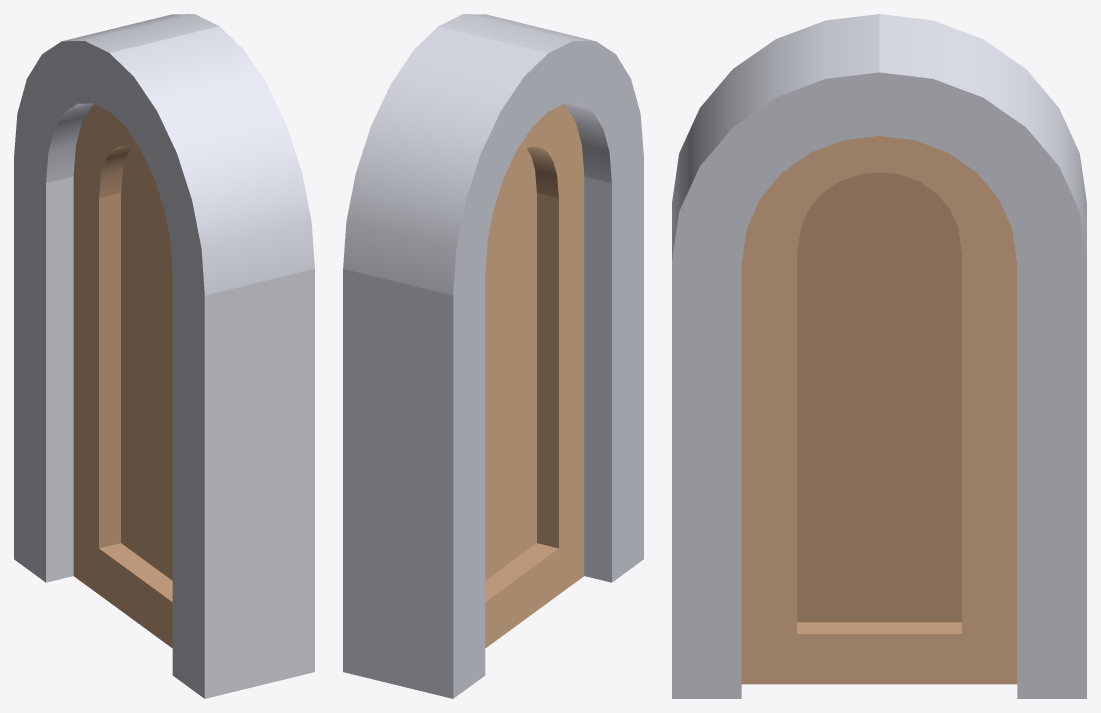
Rendered from door.glb.
3 renders of one model, left to right at view 1: azimuth 30°, elevation 25°; view 2: azimuth 150°, elevation 25°; view 3: azimuth 270°, elevation 25°, orthographic. The views are drawn at different scales.
Visible parts, largest first — view 1: door(Clone), door; view 2: door(Clone), door; view 3: door, door(Clone).
Part boxes in pixels (x1,y1,x2,y2): door(Clone): (14, 14, 314, 698); door: (73, 104, 172, 648); door(Clone): (343, 14, 643, 698); door: (485, 104, 584, 648); door: (741, 136, 1017, 684); door(Clone): (672, 14, 1086, 698).
Size of the model in its own units: 0.2 by 1 by 0.6.
